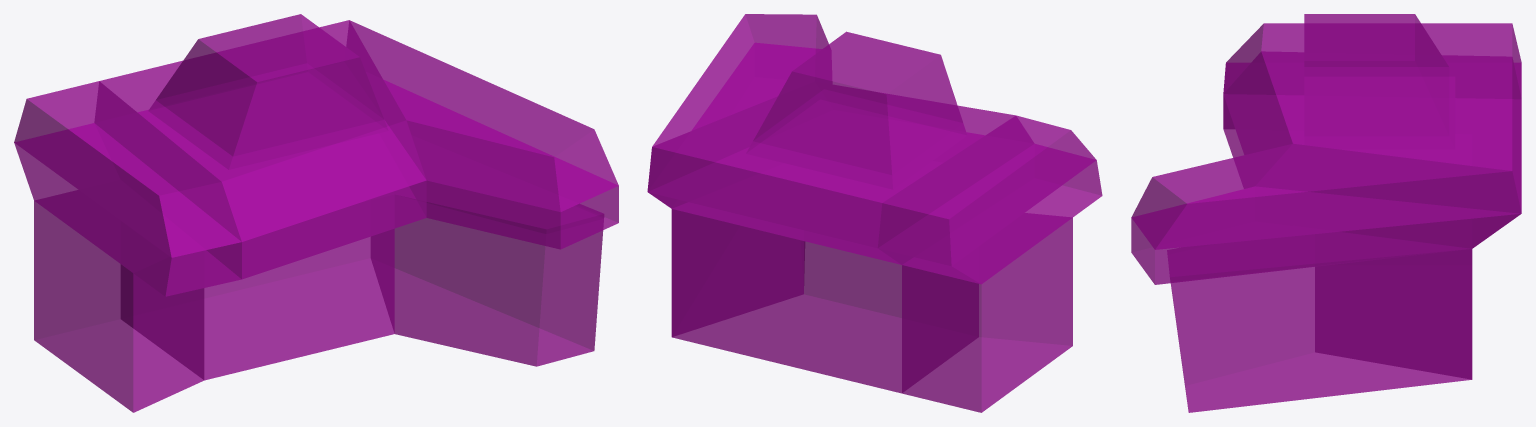
The model's file is SM_Prop_Cockpit_R_01_Collision.fbx.
3 views of the same model, side by side, from view 1: azimuth 30°, elevation 25°; view 2: azimuth 150°, elevation 25°; view 3: azimuth 270°, elevation 25° (orthographic). The views are drawn at different scales.
Parts seen in each view (by area): view 1: SM_Prop_Cockpit_R_01_Collision; view 2: SM_Prop_Cockpit_R_01_Collision; view 3: SM_Prop_Cockpit_R_01_Collision.
Boxes of the visible parts, x1,y1,x2,y2 form: SM_Prop_Cockpit_R_01_Collision: (14,14,618,412); SM_Prop_Cockpit_R_01_Collision: (647,14,1102,412); SM_Prop_Cockpit_R_01_Collision: (1131,14,1521,412).
Size of the model in its own units: 254 by 170 by 221.
